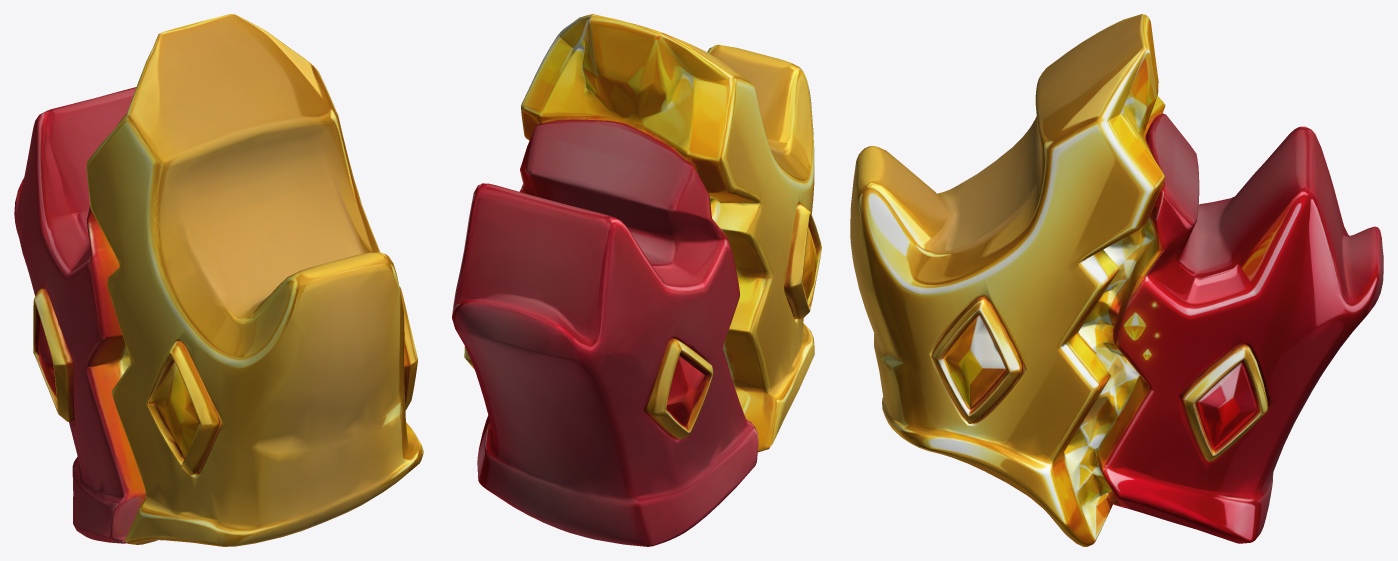
Rendered from K_CrownShard_HD_src.glb.
The picture shows the model from 3 angles, left to right: view 1: azimuth 30°, elevation 25°; view 2: azimuth 150°, elevation 25°; view 3: azimuth 270°, elevation 25°; orthographic projection. The views are drawn at different scales.
Visible parts, largest first — view 1: tripo_node_0480368e-fa16-4858-aa62-8e969d3db71d; view 2: tripo_node_0480368e-fa16-4858-aa62-8e969d3db71d; view 3: tripo_node_0480368e-fa16-4858-aa62-8e969d3db71d.
Part boxes in pixels (bbox=[...]): tripo_node_0480368e-fa16-4858-aa62-8e969d3db71d: bbox=[14, 14, 423, 546]; tripo_node_0480368e-fa16-4858-aa62-8e969d3db71d: bbox=[452, 14, 821, 546]; tripo_node_0480368e-fa16-4858-aa62-8e969d3db71d: bbox=[850, 14, 1383, 546].
Size of the model in its own units: 0.5366 by 0.9803 by 0.944.
Materials: 1 (1 with a texture image).
